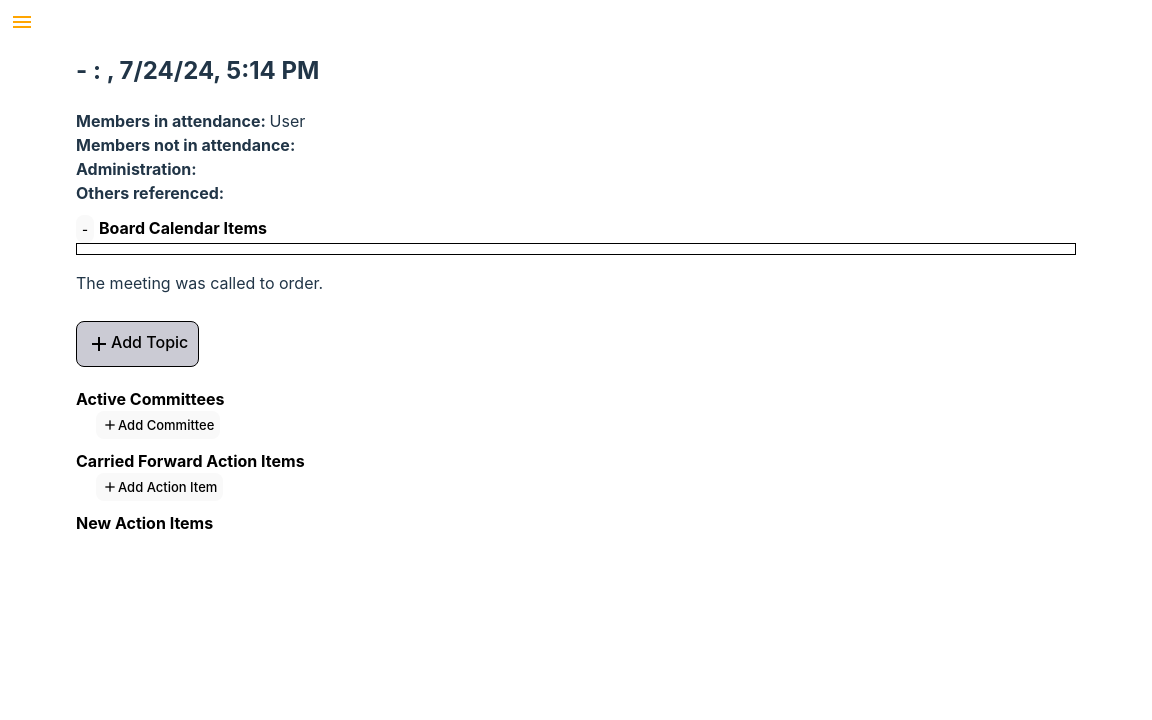
Scenario: listed action items › allows adding a new past action item
Click the button "Add Action Item" at (160, 487), box [96,473,223,501]
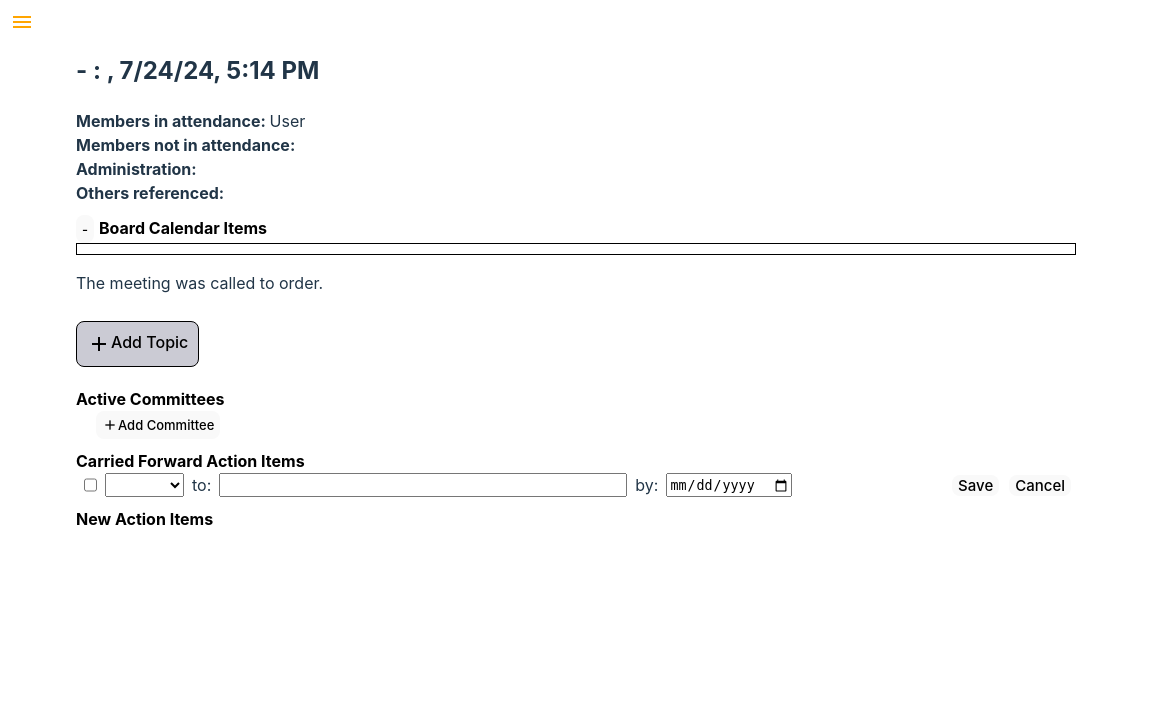
Type "Test Action Item" into the field named "Action item text" at (423, 485), box [219,473,627,497]
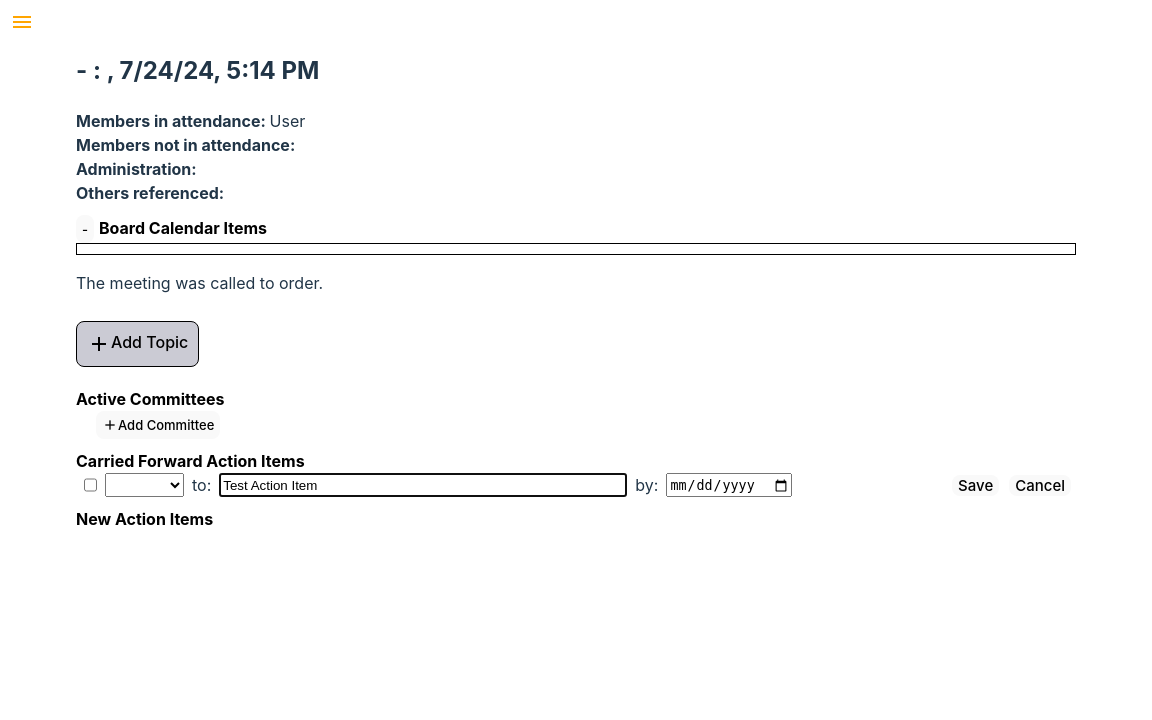
Select "Test User" in the dropdown named "Assignee" at (144, 485), box [105,473,184,497]
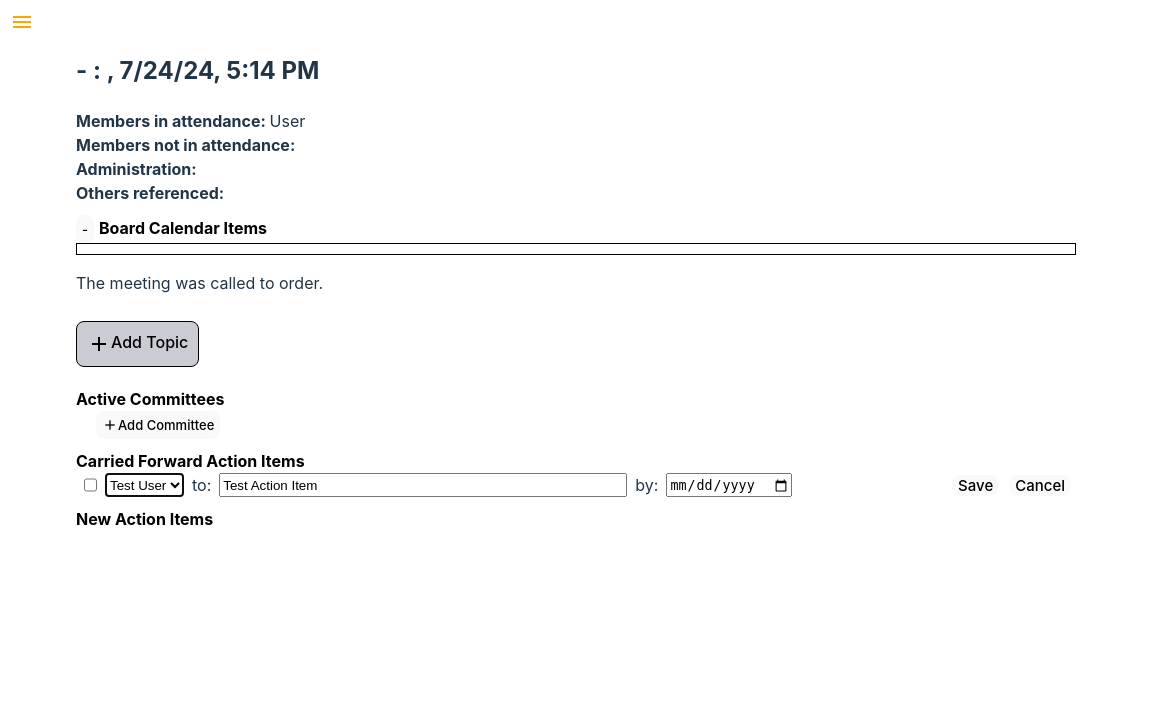
Type "2021-01-01" into the date field named "Due date" at (729, 485), box [666,473,792,497]
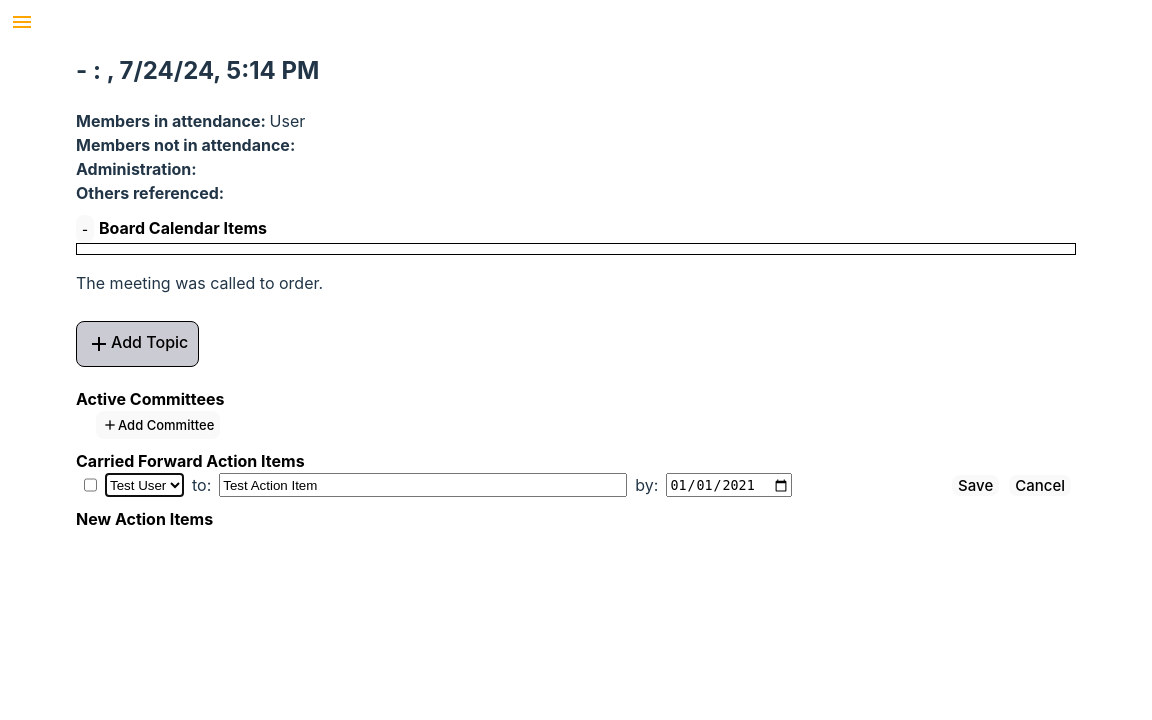
Click the checkbox named "Completed" at (90, 485), box [84,473,97,497]
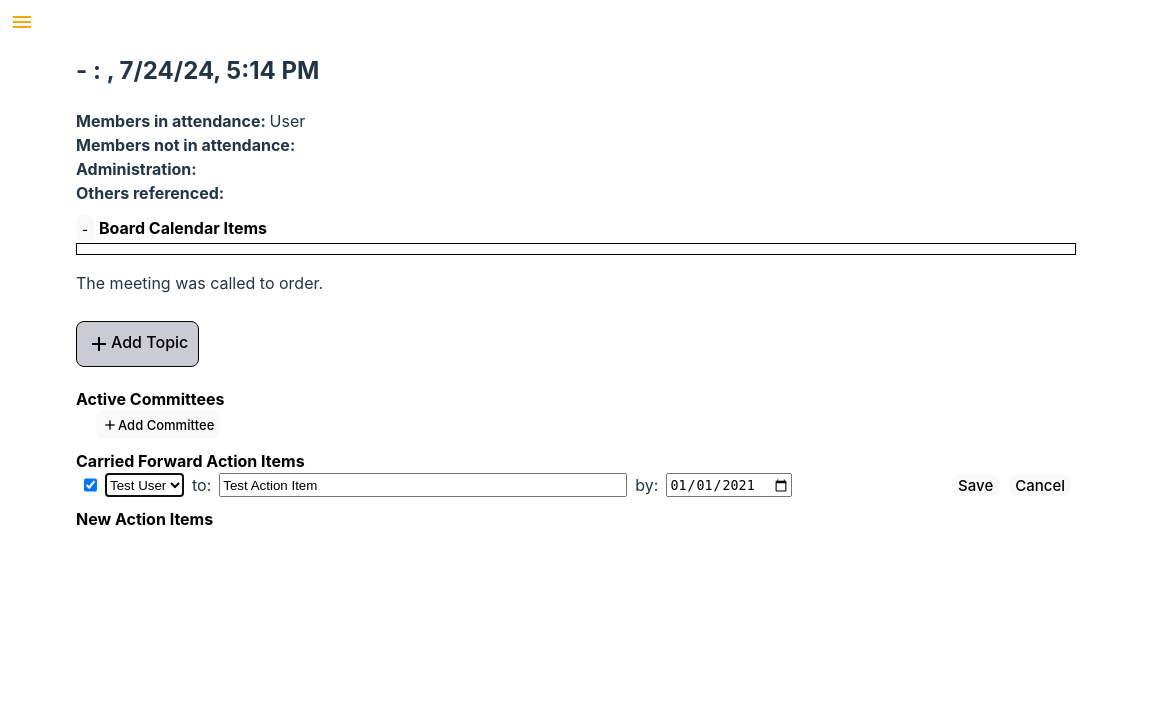
Click the button "Save" at (976, 486), box [952,475,999,496]
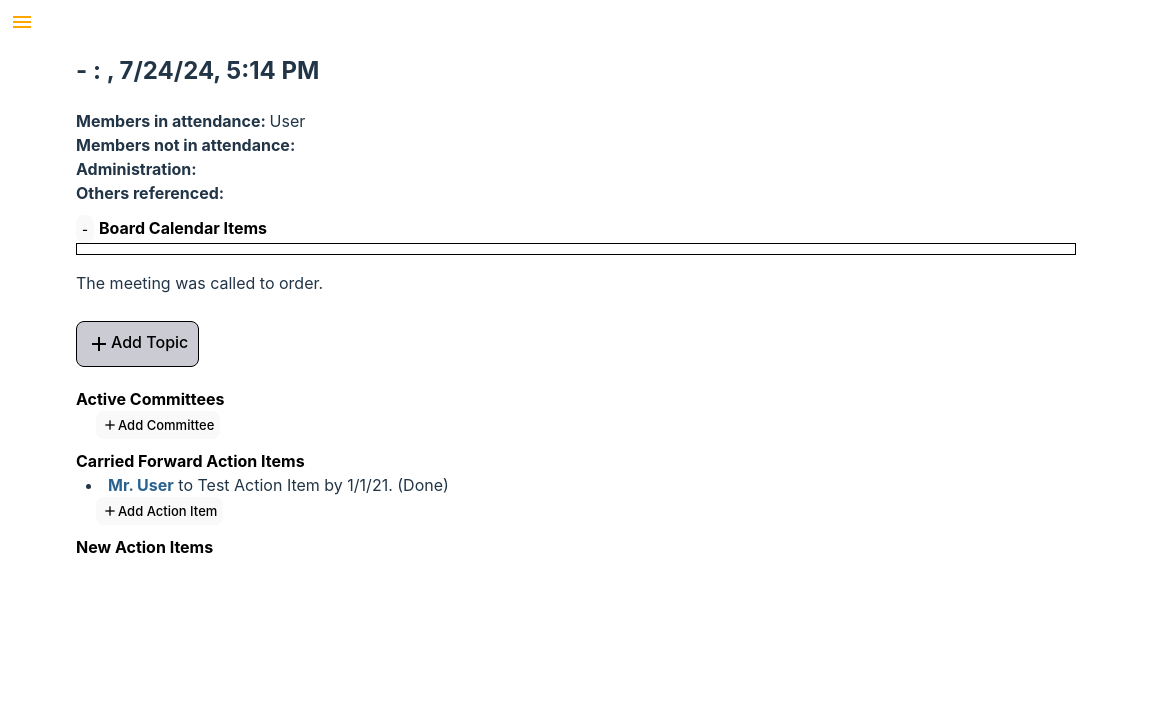
Result: the list item "Mr. User to Test Action Item by 1/1/21. (Done)" is shown at [108,475,449,495]
